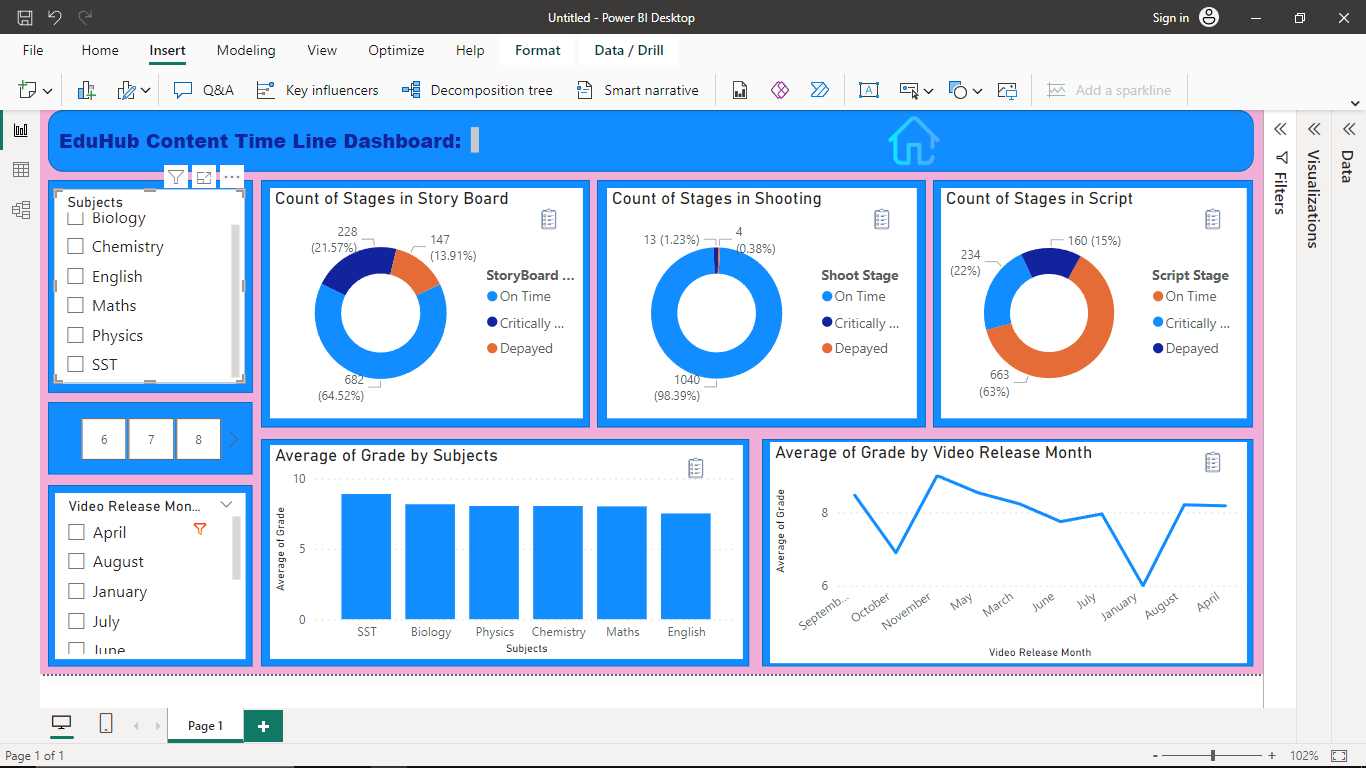

What the dashboard file says about the page in this screenshot:
{"tool":"powerbi","page":{"name":"Page 1","canvas":[1200,553],"ordinal":0},"visuals":[{"type":"shape","box":[7.7,0,1183.2,60.6],"z":0},{"type":"textbox","box":[13.9,12,422.2,36.1],"z":1000},{"type":"shape","box":[217.1,68.6,322.6,242.7],"z":2000},{"type":"shape","box":[876.6,68.6,314.4,242.7],"z":3000},{"type":"shape","box":[546.9,68.6,322.6,242.7],"z":4000},{"type":"donutChart","title":"Count of Stages in Story Board","fields":{"Y":["CountNonNull(Data.StoryBoard Stage)"],"Category":["Data.StoryBoard Stage"]},"box":[225.3,76.8,307.2,226.3],"z":5000},{"type":"donutChart","title":"Count of Stages in Shooting","fields":{"Y":["CountNonNull(Data.Shoot Stage)"],"Category":["Data.Shoot Stage"]},"box":[556.1,76.8,304.1,226.3],"z":6000},{"type":"donutChart","title":"Count of Stages in Script","fields":{"Category":["Data.Script Stage"],"Y":["CountNonNull(Data.Script Stage)"]},"box":[883.8,76.8,300.1,226.3],"z":7000},{"type":"shape","box":[708.7,322.6,482.3,223.2],"z":8000},{"type":"lineChart","fields":{"Y":["Avg(Data.Grade)"],"Category":["Data.Video Release Month"]},"box":[715.8,325.7,468,217.1],"z":9000},{"type":"shape","box":[217.1,322.6,479.3,223.2],"z":10000},{"type":"columnChart","fields":{"Category":["Data.Subjects"],"Y":["Avg(Data.Grade)"]},"box":[225.3,328.7,463.9,209.9],"z":11000},{"type":"shape","box":[7.7,68.3,201.1,208.8],"z":12000},{"type":"slicer","fields":{"Values":["Data.Subjects"]},"box":[14.2,77.3,186.9,190.8],"z":13000},{"type":"shape","box":[7.8,367.7,200.6,178.3],"z":14000},{"type":"shape","box":[7.8,286.4,200.6,71.3],"z":15000},{"type":"slicer","fields":{"Values":["Data.Video Release Month"]},"box":[14.5,375.5,187.2,162.7],"z":16000},{"type":"slicer","fields":{"Values":["Data.Grade"]},"box":[14.5,295.3,187.2,54.6],"z":17000},{"type":"image","box":[131.5,397.8,51.3,26.7],"z":18000},{"type":"image","box":[121.4,76.9,51.3,26.7],"z":19000},{"type":"image","box":[547.1,0,619.5,60.2],"z":20000},{"type":"image","box":[483.6,90.3,31.2,33.4],"z":21000},{"type":"image","box":[810,90.3,31.2,33.4],"z":22000},{"type":"image","box":[1135.4,90.3,31.2,33.4],"z":23000},{"type":"image","box":[1135.4,328.7,31.2,33.4],"z":23001},{"type":"image","box":[628.4,334.3,31.2,33.4],"z":23002}]}

Visuals, with their boxes on the page's 1200x553 design canvas (x1, y1, x2, y2). These are canvas units, not pixel positions in the 1366x768 screenshot, which may show the page scaled, cropped or inside an application window:
shape: bbox(8, 0, 1191, 61)
textbox: bbox(14, 12, 436, 48)
shape: bbox(217, 69, 540, 311)
shape: bbox(877, 69, 1191, 311)
shape: bbox(547, 69, 870, 311)
"Count of Stages in Story Board" donutChart: bbox(225, 77, 532, 303)
"Count of Stages in Shooting" donutChart: bbox(556, 77, 860, 303)
"Count of Stages in Script" donutChart: bbox(884, 77, 1184, 303)
shape: bbox(709, 323, 1191, 546)
lineChart - Avg(Data.Grade) x Data.Video Release Month: bbox(716, 326, 1184, 543)
shape: bbox(217, 323, 696, 546)
columnChart - Data.Subjects x Avg(Data.Grade): bbox(225, 329, 689, 539)
shape: bbox(8, 68, 209, 277)
slicer - Data.Subjects: bbox(14, 77, 201, 268)
shape: bbox(8, 368, 208, 546)
shape: bbox(8, 286, 208, 358)
slicer - Data.Video Release Month: bbox(14, 376, 202, 538)
slicer - Data.Grade: bbox(14, 295, 202, 350)
image: bbox(132, 398, 183, 424)
image: bbox(121, 77, 173, 104)
image: bbox(547, 0, 1167, 60)
image: bbox(484, 90, 515, 124)
image: bbox(810, 90, 841, 124)
image: bbox(1135, 90, 1167, 124)
image: bbox(1135, 329, 1167, 362)
image: bbox(628, 334, 660, 368)
